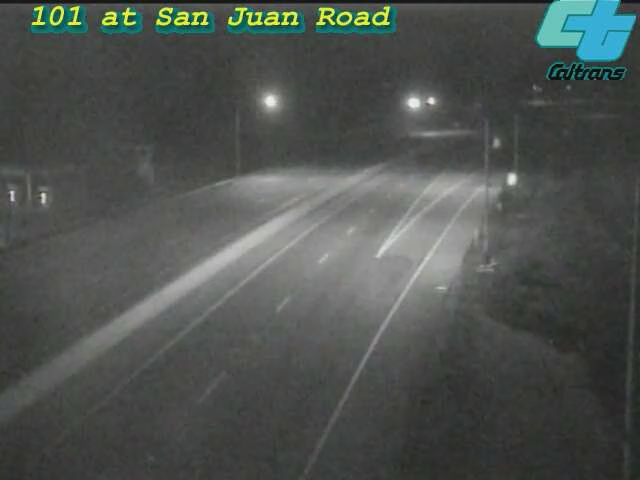vehicle: (273, 121, 353, 201)
